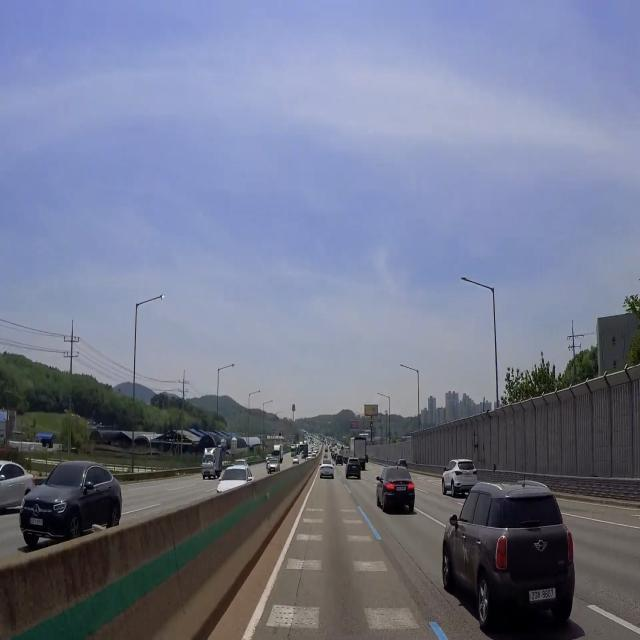car: (527, 585, 559, 605), (394, 482, 410, 495), (463, 470, 473, 479), (323, 470, 330, 475), (351, 464, 356, 469), (270, 467, 275, 471)
